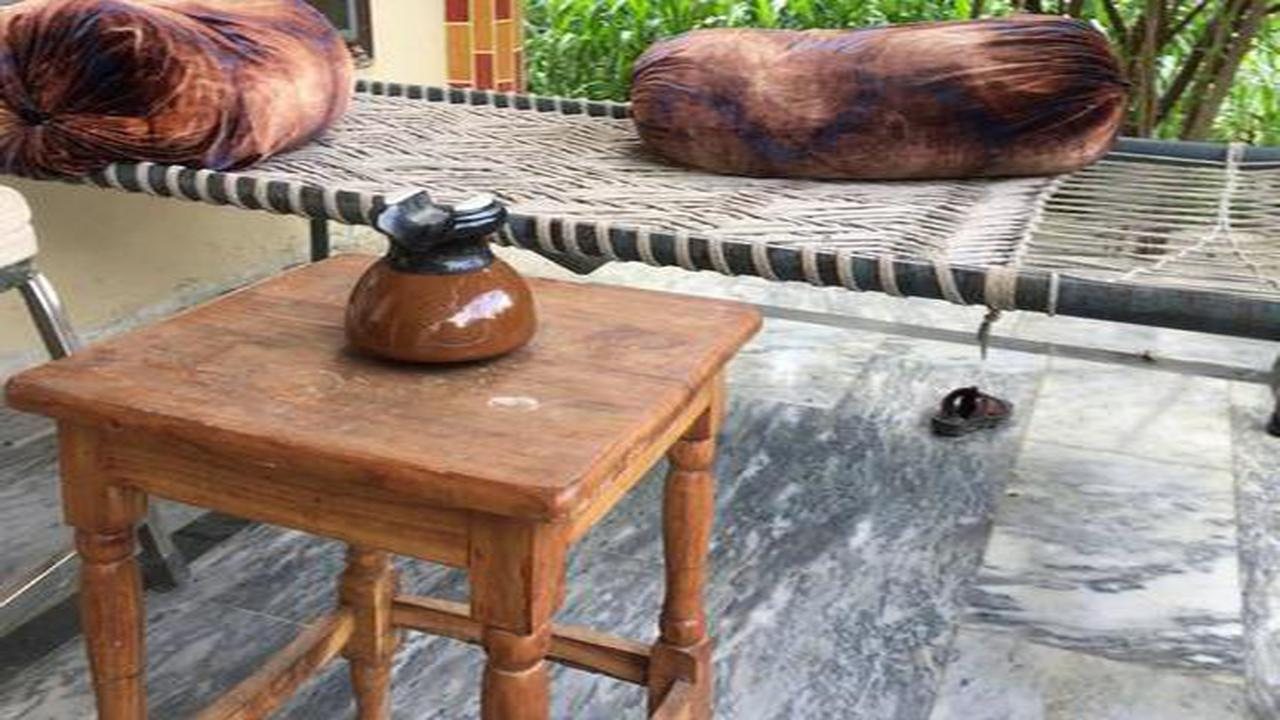insulator_pin: (333, 172, 548, 376)
